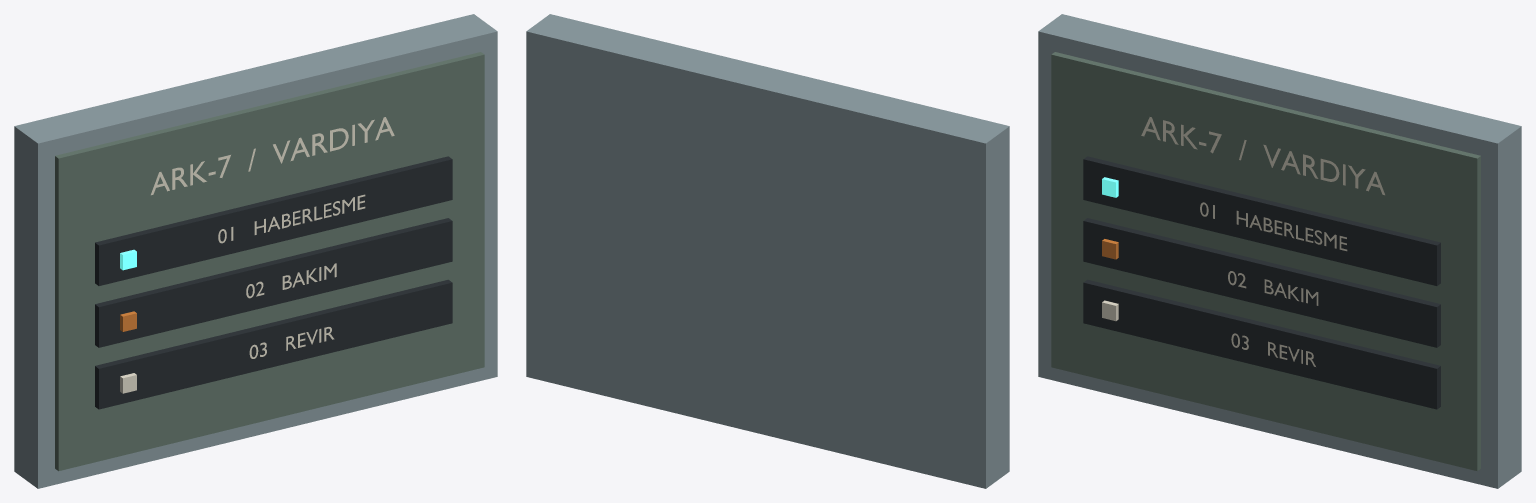
The model's file is VardiyaPanosu.glb.
3 renders of one model, left to right at view 1: azimuth 30°, elevation 25°; view 2: azimuth 150°, elevation 25°; view 3: azimuth 330°, elevation 25°, orthographic.
Visible parts, largest first — view 1: Pano_Zemini, Pano_Cercevesi, Pano_Kart.002, Pano_Kart.001, Pano_Kart, Pano_Baslik, Pano_Vardiya, Pano_Vardiya.001; view 2: Pano_Cercevesi; view 3: Pano_Zemini, Pano_Cercevesi, Pano_Kart.002, Pano_Kart.001, Pano_Kart, Pano_Baslik, Pano_Vardiya, Pano_Vardiya.001.
Part boxes in pixels (left/top/right/bottom): Pano_Zemini: left=55, top=52, right=484, bottom=471; Pano_Cercevesi: left=14, top=14, right=497, bottom=488; Pano_Kart.002: left=95, top=279, right=452, bottom=409; Pano_Kart.001: left=95, top=218, right=452, bottom=347; Pano_Kart: left=95, top=156, right=452, bottom=285; Pano_Baslik: left=151, top=117, right=394, bottom=195; Pano_Vardiya: left=218, top=194, right=365, bottom=243; Pano_Vardiya.001: left=246, top=263, right=336, bottom=298; Pano_Cercevesi: left=526, top=14, right=1009, bottom=488; Pano_Zemini: left=1051, top=52, right=1480, bottom=471; Pano_Cercevesi: left=1038, top=14, right=1521, bottom=488; Pano_Kart.002: left=1083, top=279, right=1440, bottom=409; Pano_Kart.001: left=1083, top=218, right=1440, bottom=347; Pano_Kart: left=1083, top=156, right=1440, bottom=285; Pano_Baslik: left=1141, top=117, right=1384, bottom=195; Pano_Vardiya: left=1200, top=202, right=1347, bottom=251; Pano_Vardiya.001: left=1228, top=271, right=1318, bottom=305.
Bounding box in the file's own units: 0.78 × 0.56 × 0.101.
